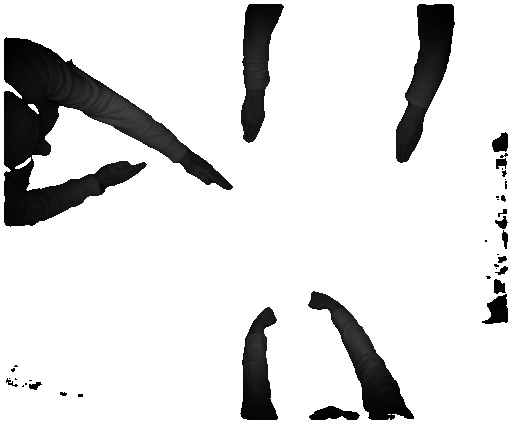fist: (240, 304, 279, 334), (304, 288, 337, 315)
hand: (392, 116, 431, 167), (241, 100, 271, 143)
spine: (98, 160, 150, 199), (184, 154, 238, 191)
